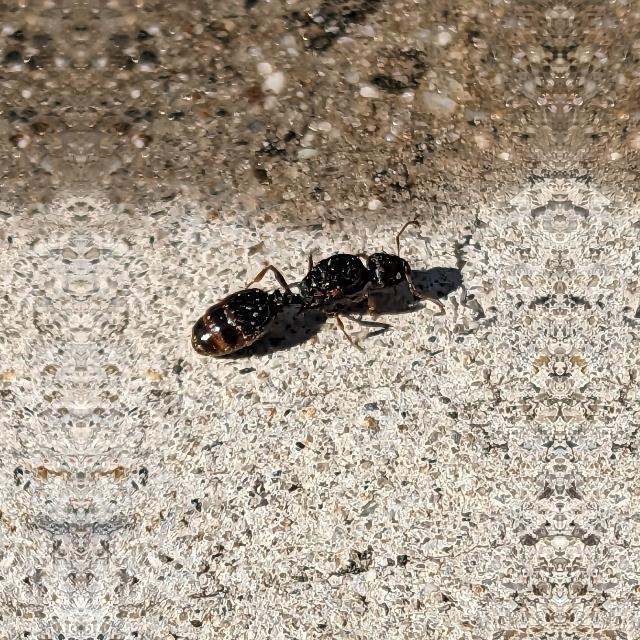Tetramorium: (188, 243, 414, 354)
